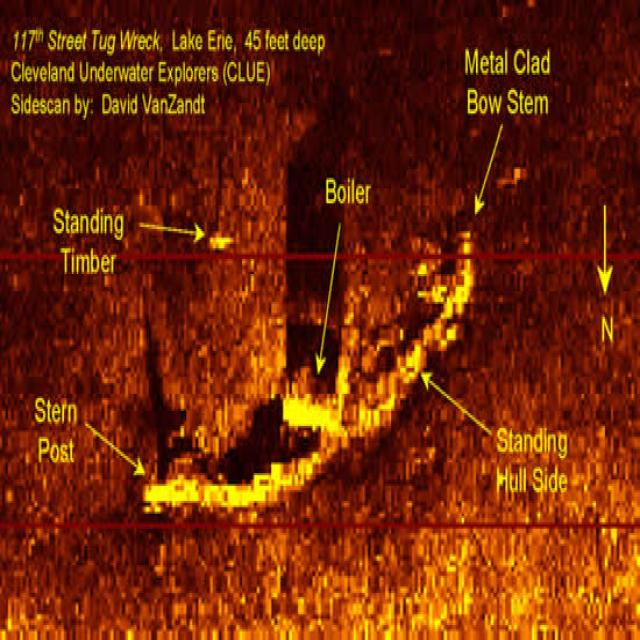ship: (138, 227, 476, 522)
